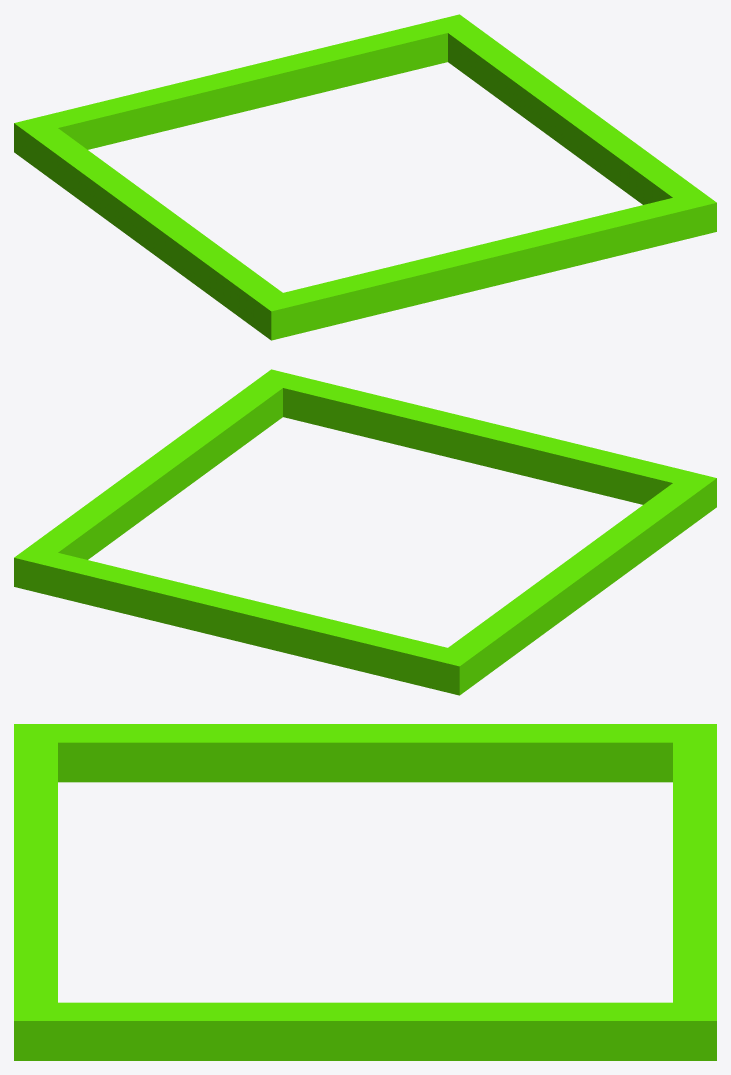
File: bounding_box.gltf
3 renders of one model, top to bottom at view 1: azimuth 30°, elevation 25°; view 2: azimuth 150°, elevation 25°; view 3: azimuth 270°, elevation 25°, orthographic. The views are drawn at different scales.
Visible parts, largest first — view 1: cube; view 2: cube; view 3: cube.
Boxes of the visible parts, bbox=[...] form: cube: bbox=[14, 14, 716, 340]; cube: bbox=[14, 369, 716, 695]; cube: bbox=[14, 724, 716, 1060].
Bounding box in the file's own units: 1 × 0.0625 × 1.
Materials: 1 (1 with a texture image).
